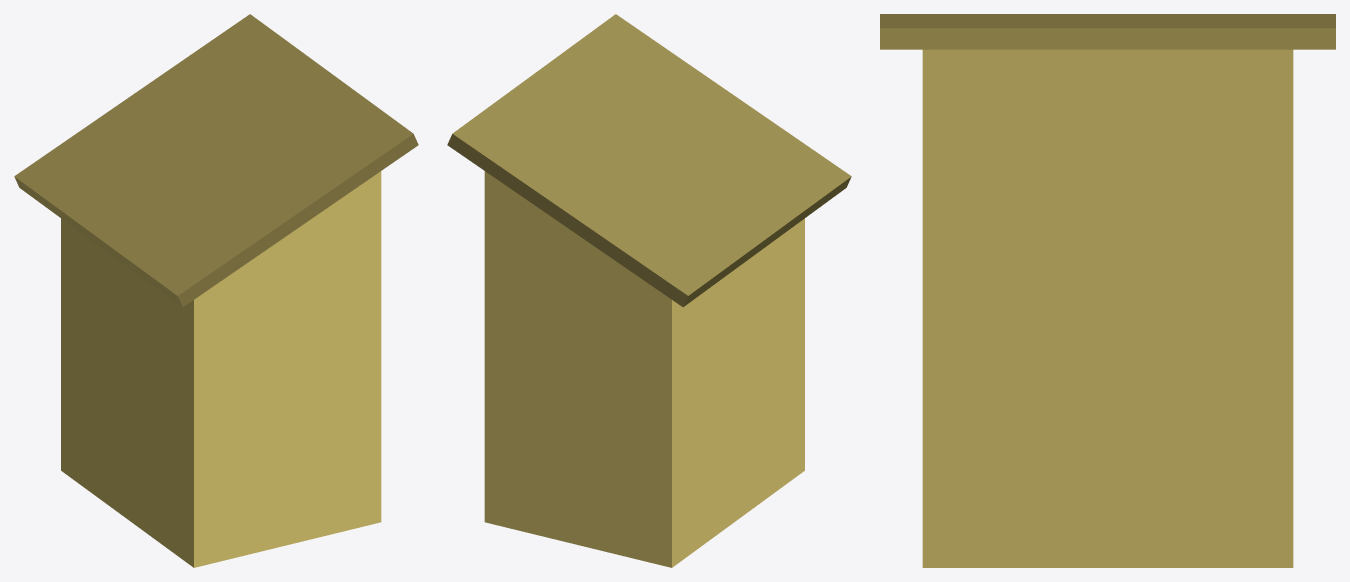
Rendered from result.glb.
The picture shows the model from 3 angles, left to right: view 1: azimuth 30°, elevation 25°; view 2: azimuth 150°, elevation 25°; view 3: azimuth 270°, elevation 25°; orthographic projection. The views are drawn at different scales.
Visible parts, largest first — view 1: d0d7771c-f136-40c3-bce7-11714d461975__undefined, 381b479e-9c10-4bce-bb8c-f63b905b53db__undefined; view 2: d0d7771c-f136-40c3-bce7-11714d461975__undefined, 381b479e-9c10-4bce-bb8c-f63b905b53db__undefined; view 3: d0d7771c-f136-40c3-bce7-11714d461975__undefined, 381b479e-9c10-4bce-bb8c-f63b905b53db__undefined.
Boxes of the visible parts, x1,y1,x2,y2 form: d0d7771c-f136-40c3-bce7-11714d461975__undefined: (61,171,381,567); 381b479e-9c10-4bce-bb8c-f63b905b53db__undefined: (14,14,418,307); d0d7771c-f136-40c3-bce7-11714d461975__undefined: (484,171,804,567); 381b479e-9c10-4bce-bb8c-f63b905b53db__undefined: (447,14,851,307); d0d7771c-f136-40c3-bce7-11714d461975__undefined: (922,49,1293,567); 381b479e-9c10-4bce-bb8c-f63b905b53db__undefined: (880,14,1335,49).
Bounding box in the file's own units: 457 × 717 × 537.
